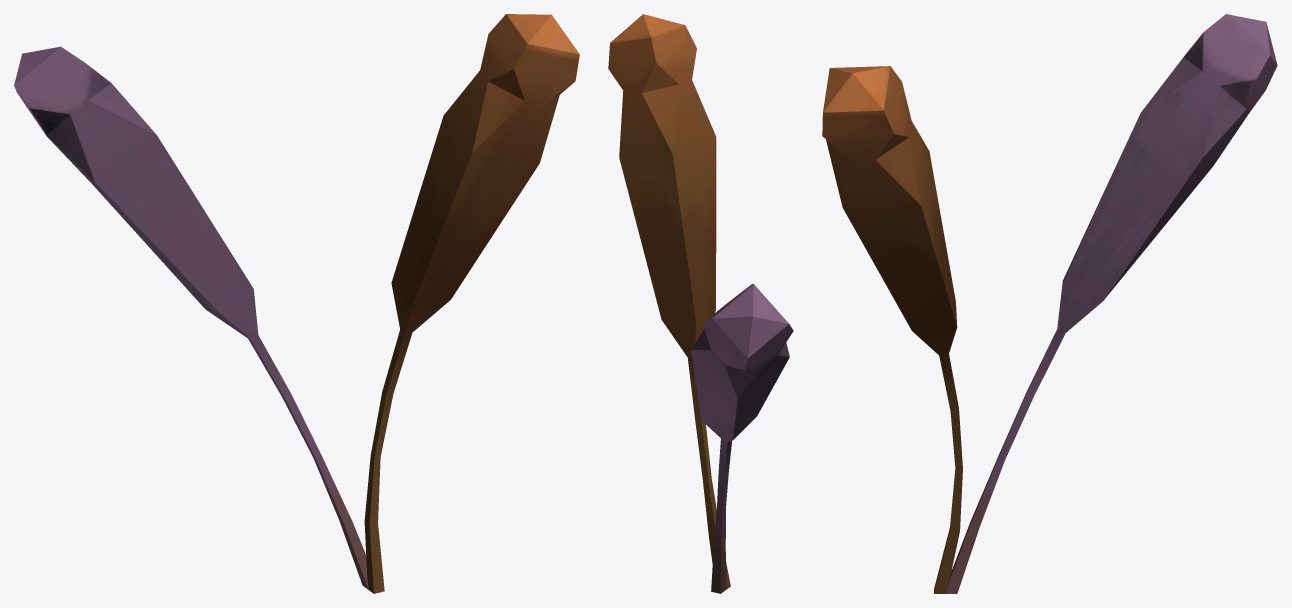
The model's file is FOL_Flower_Big_07.obj.
3 renders of one model, left to right at view 1: azimuth 30°, elevation 25°; view 2: azimuth 150°, elevation 25°; view 3: azimuth 270°, elevation 25°, orthographic. The views are drawn at different scales.
Visible parts, largest first — view 1: FOL_Flower_Big_07; view 2: FOL_Flower_Big_07; view 3: FOL_Flower_Big_07.
Part boxes in pixels (x1,y1,x2,y2): FOL_Flower_Big_07: (14, 14, 579, 593); FOL_Flower_Big_07: (608, 14, 793, 593); FOL_Flower_Big_07: (822, 14, 1277, 593).
Bounding box in the file's own units: 0.8495 × 1.25 × 0.8866.
1 material, 1 textured.
